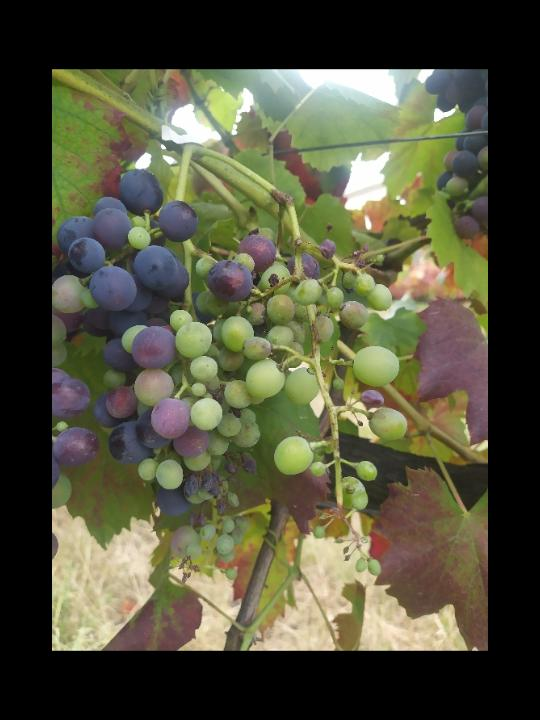grape: (58, 166, 260, 584), (205, 221, 409, 580)
